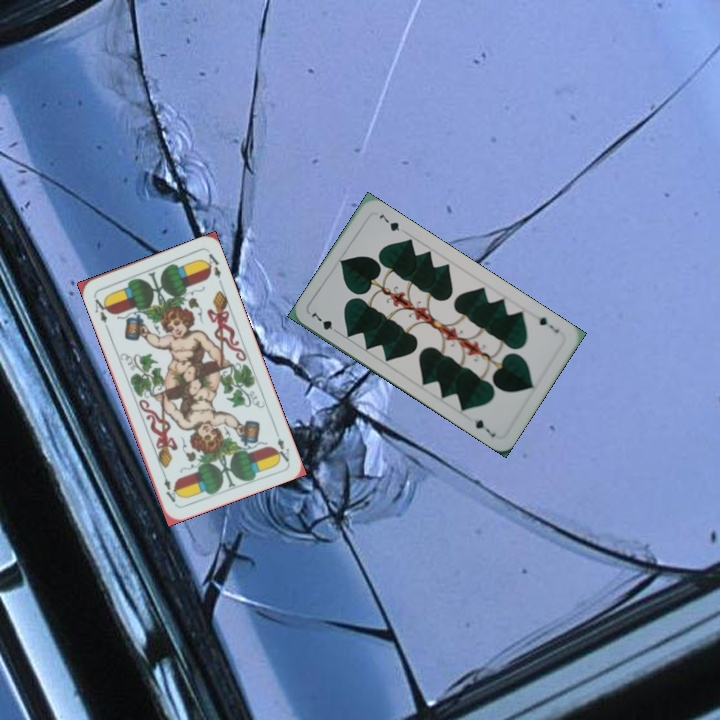EA: (271, 425, 292, 465), (89, 292, 112, 326)
G7: (307, 307, 342, 337), (534, 313, 561, 335)
